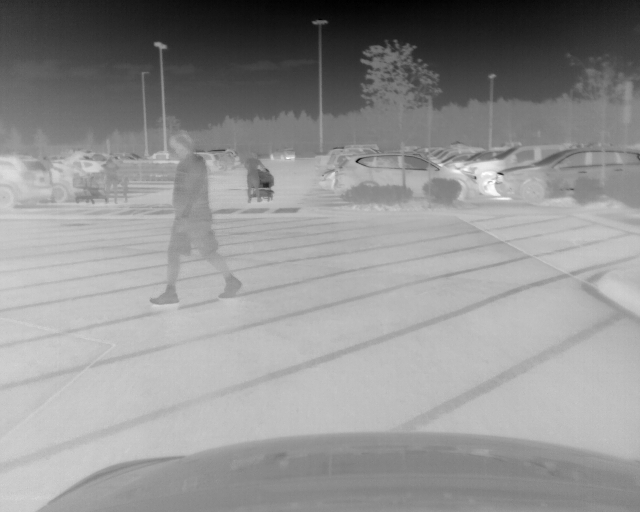car: (494, 145, 640, 209), (332, 152, 480, 204), (467, 144, 574, 196), (1, 154, 53, 213), (50, 163, 85, 204), (196, 151, 222, 177), (268, 147, 296, 162)
people: (149, 129, 242, 306), (244, 152, 268, 202), (103, 156, 119, 205), (117, 160, 130, 202)
